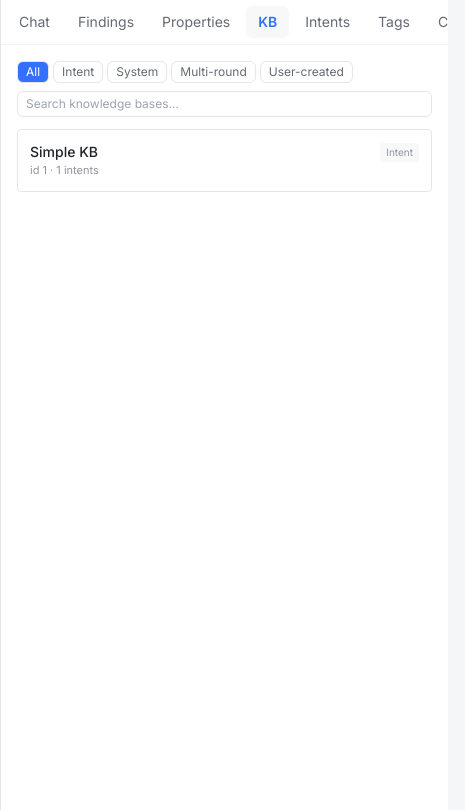
Test case: RightDock KB tab › shows list, drills into detail on row click, and returns on back
Expected: the element with test id "kb-plane" is shown, [17, 61, 432, 192]
Click the list item with test id "kb-row": [224, 160] box [17, 129, 432, 192]
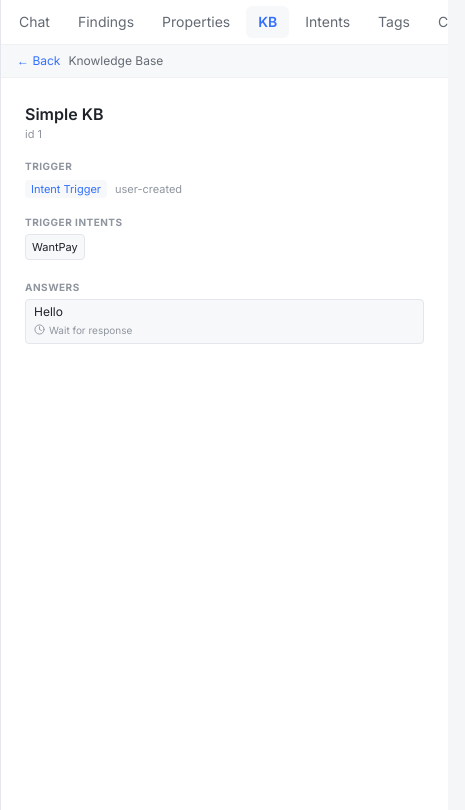
Expected: the text "Simple KB" is shown, [25, 104, 104, 124]
Now the element with test id "kb-detail-panel" is shown, box [25, 104, 424, 344]
Click the button with test id "kb-back": [39, 61] box [17, 53, 60, 69]
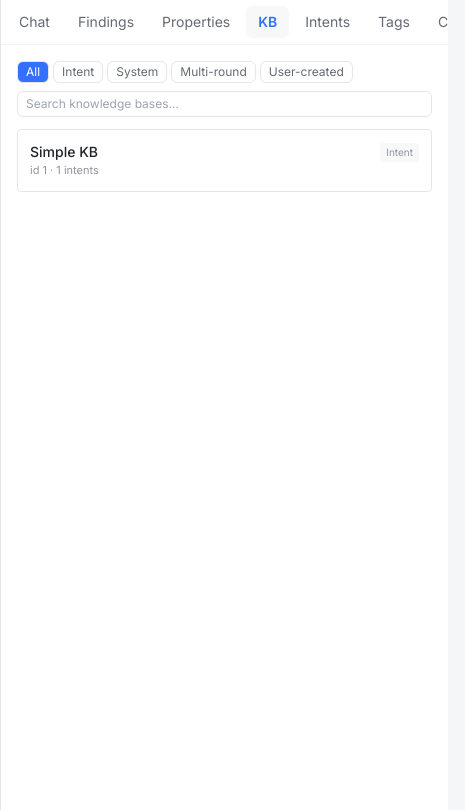
Now the element with test id "kb-plane" is shown, box [17, 61, 432, 192]
